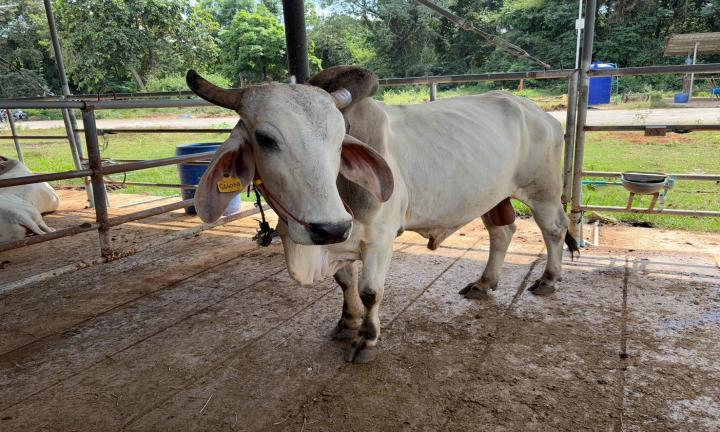Brahman: (186, 66, 577, 362)
